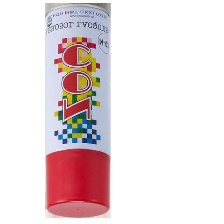aerosol_cans: (41, 1, 113, 219)
